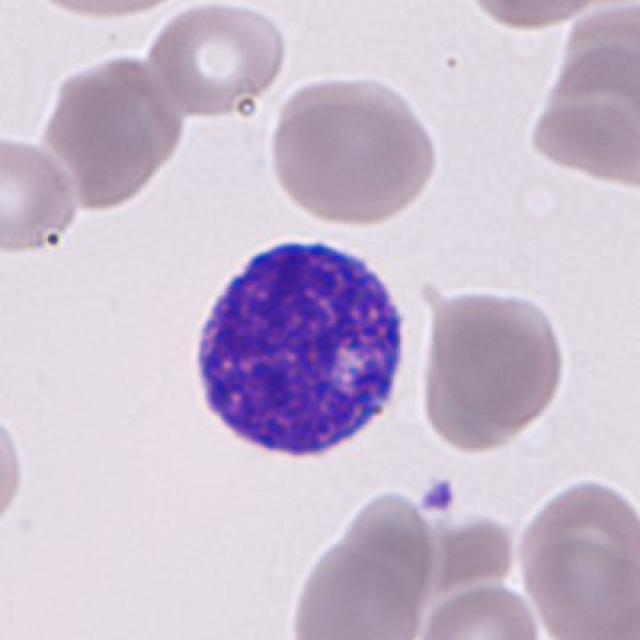Lymphocyte: (180, 226, 414, 471)
Platelets: (420, 475, 461, 517)
RBC: (265, 68, 444, 235), (510, 4, 640, 205), (427, 279, 569, 439), (142, 2, 292, 119), (279, 532, 429, 638), (0, 0, 89, 158), (519, 533, 638, 640), (523, 96, 638, 194), (0, 129, 85, 259), (414, 576, 546, 640), (450, 0, 622, 36), (2, 391, 28, 557), (3, 0, 204, 21)
